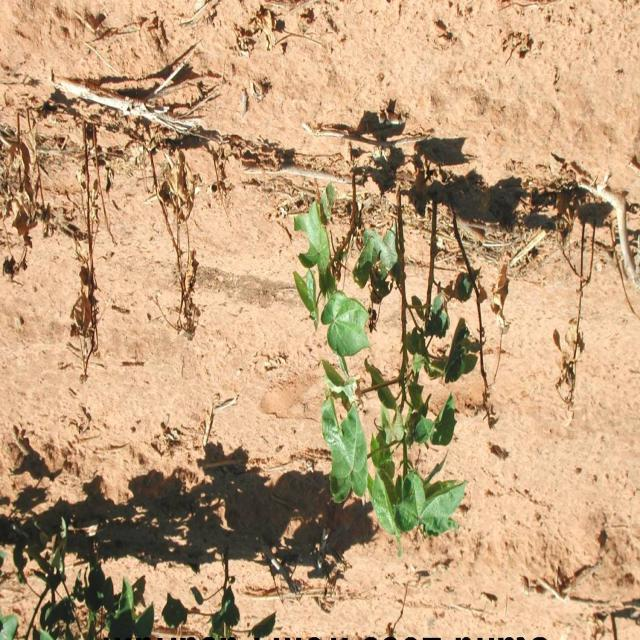Fusarium Wilt: (17, 105, 562, 508)
